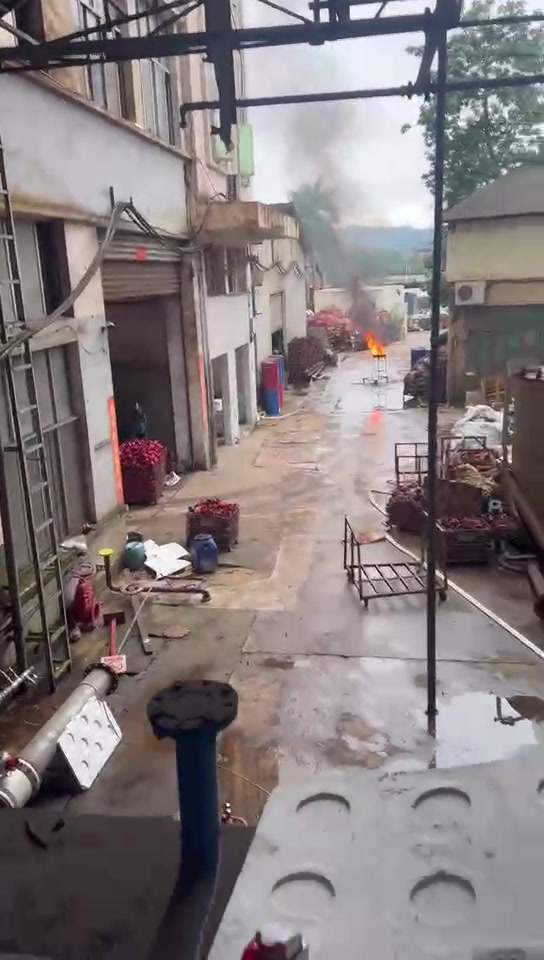fire: (366, 332, 383, 355)
